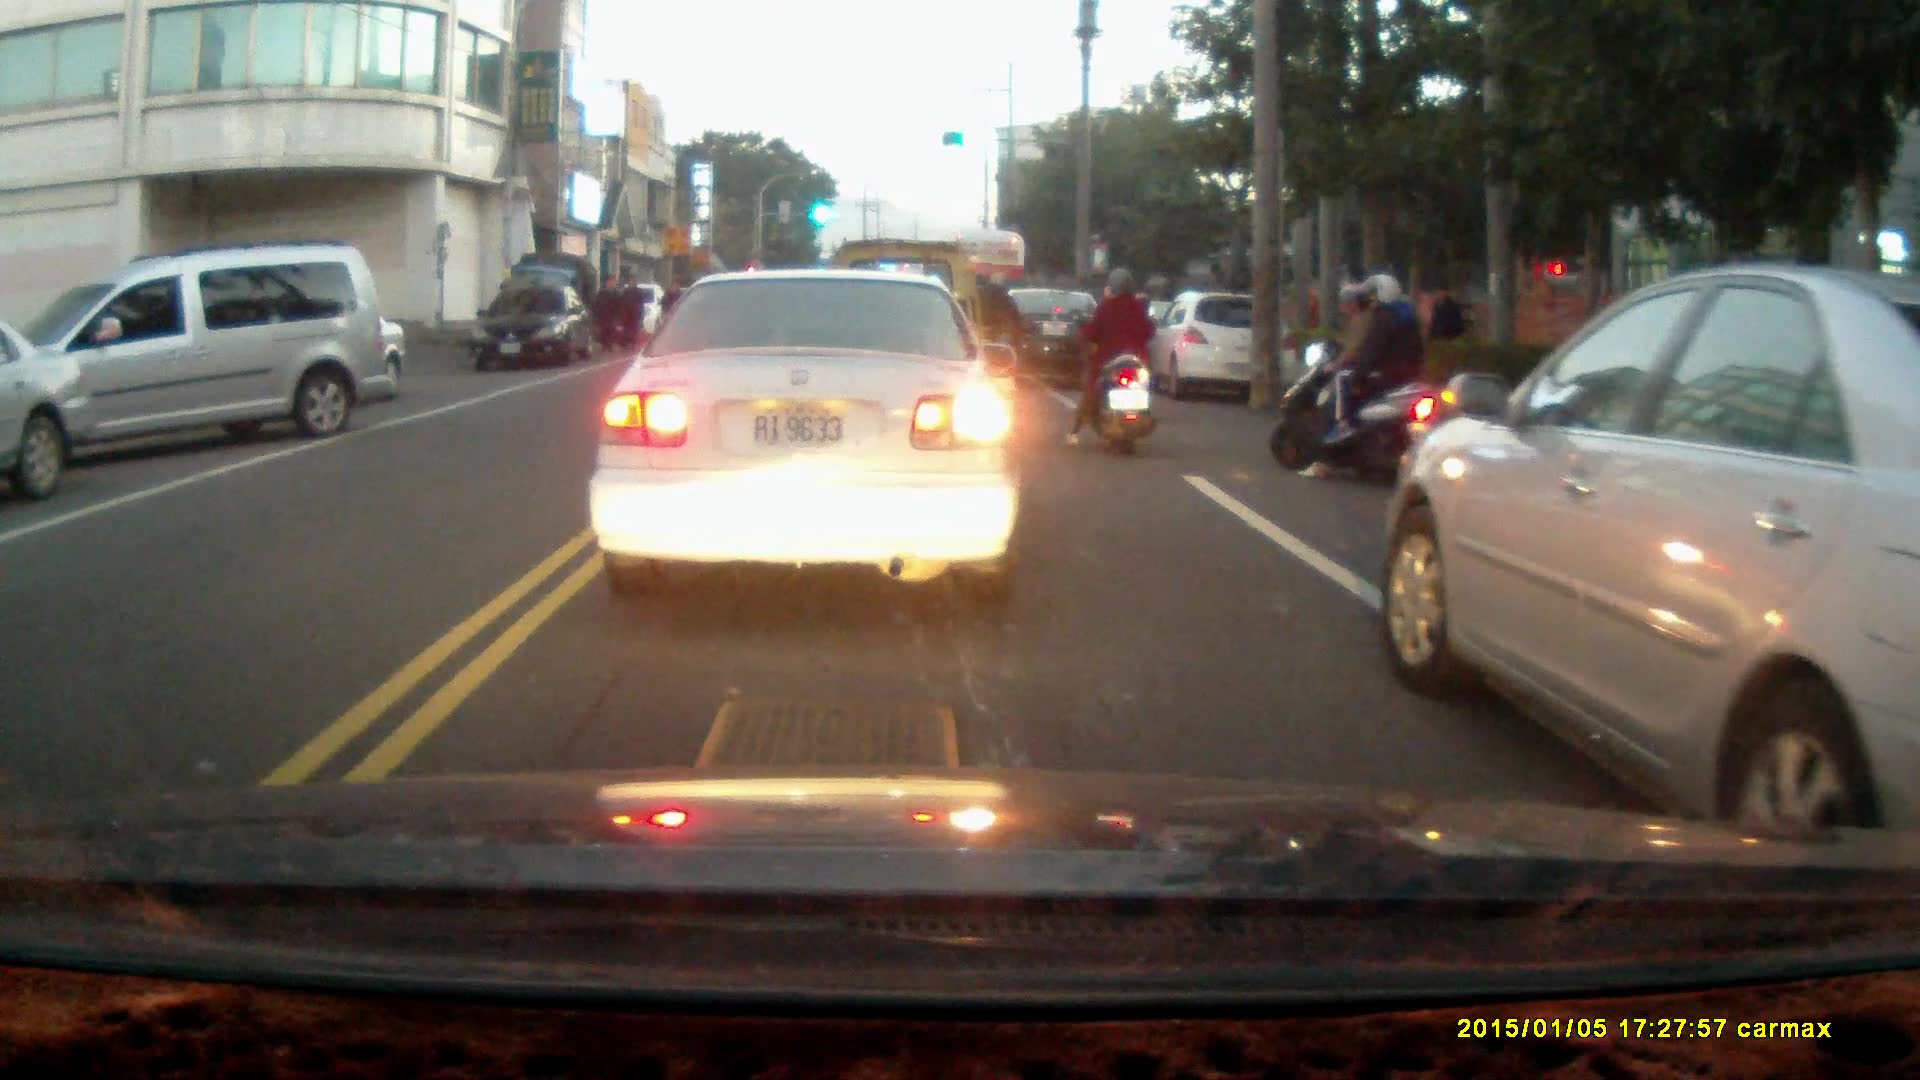pedestrian: (1424, 277, 1465, 373), (594, 273, 625, 356), (616, 273, 643, 354)
rider: (1269, 271, 1438, 484), (1061, 263, 1157, 453), (971, 267, 1027, 383)
vehicle: (1385, 262, 1912, 850), (598, 268, 1029, 604), (6, 246, 387, 469), (1, 322, 95, 506), (979, 286, 1118, 391), (1147, 291, 1281, 401), (480, 281, 598, 370)
